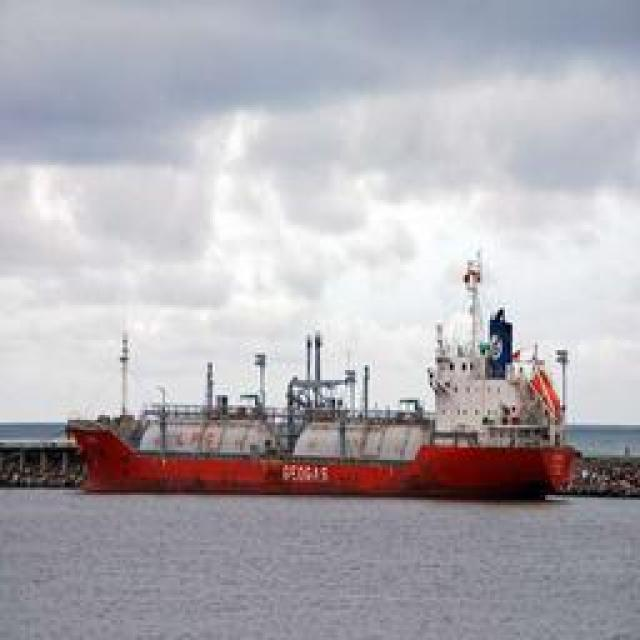CIV_Ship: (72, 258, 582, 498)
